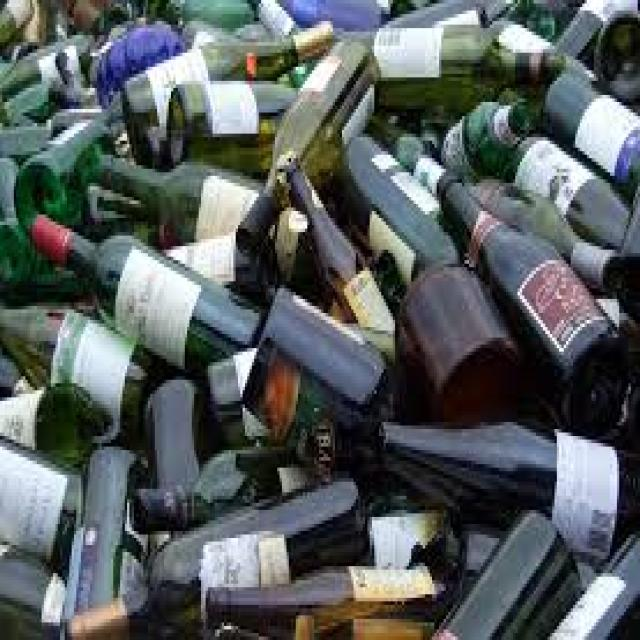Vidrio: (418, 142, 632, 466), (371, 390, 640, 584), (28, 185, 268, 386), (219, 18, 403, 280), (114, 4, 344, 192), (268, 121, 419, 375), (493, 104, 640, 271), (370, 10, 568, 126), (16, 91, 136, 273), (124, 438, 337, 529), (197, 554, 438, 631), (59, 434, 143, 640)
